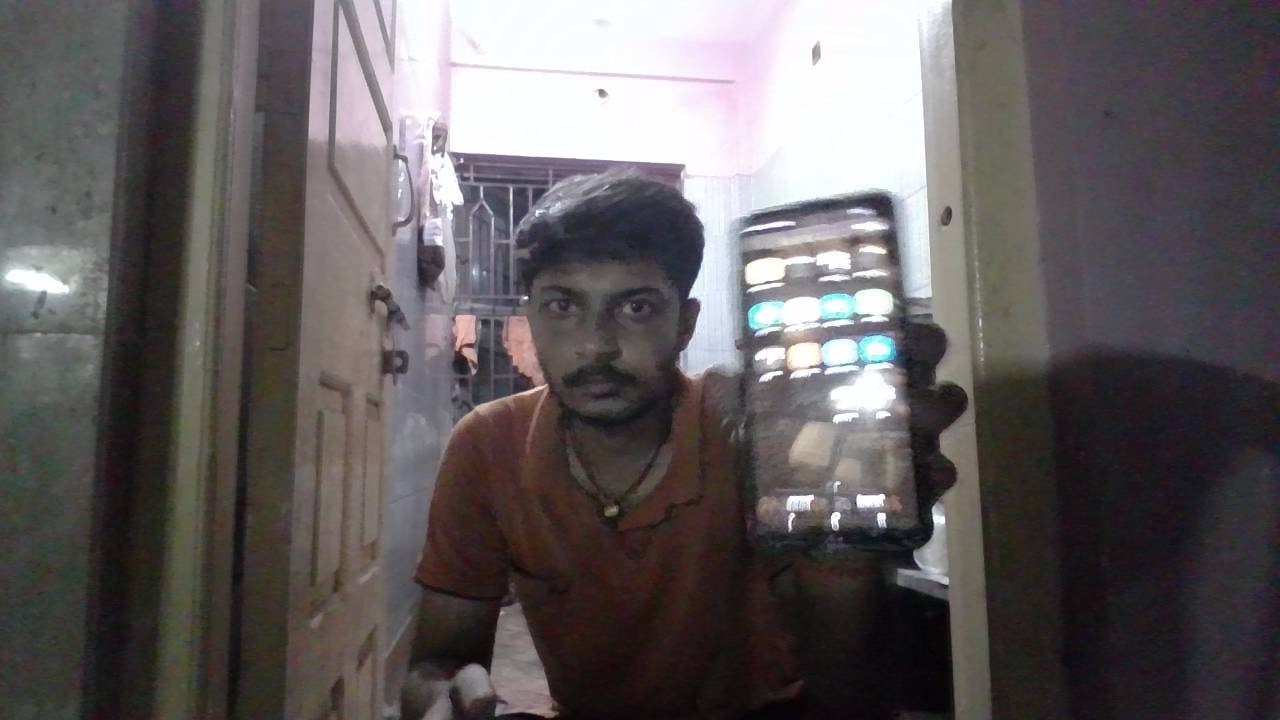red_box: (419, 396, 600, 586), (620, 408, 712, 530), (655, 496, 714, 545)
